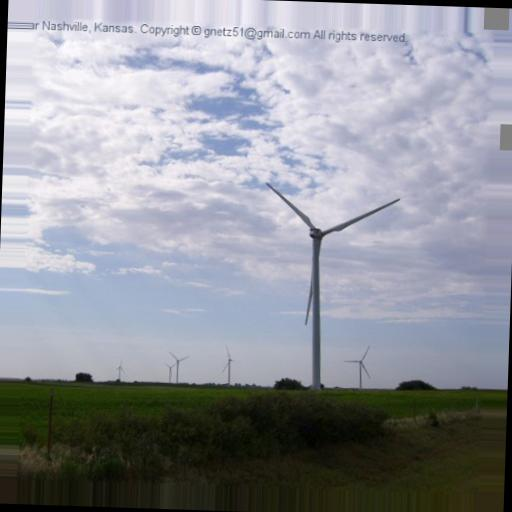wind turbine: (264, 182, 401, 391), (343, 340, 373, 396)
